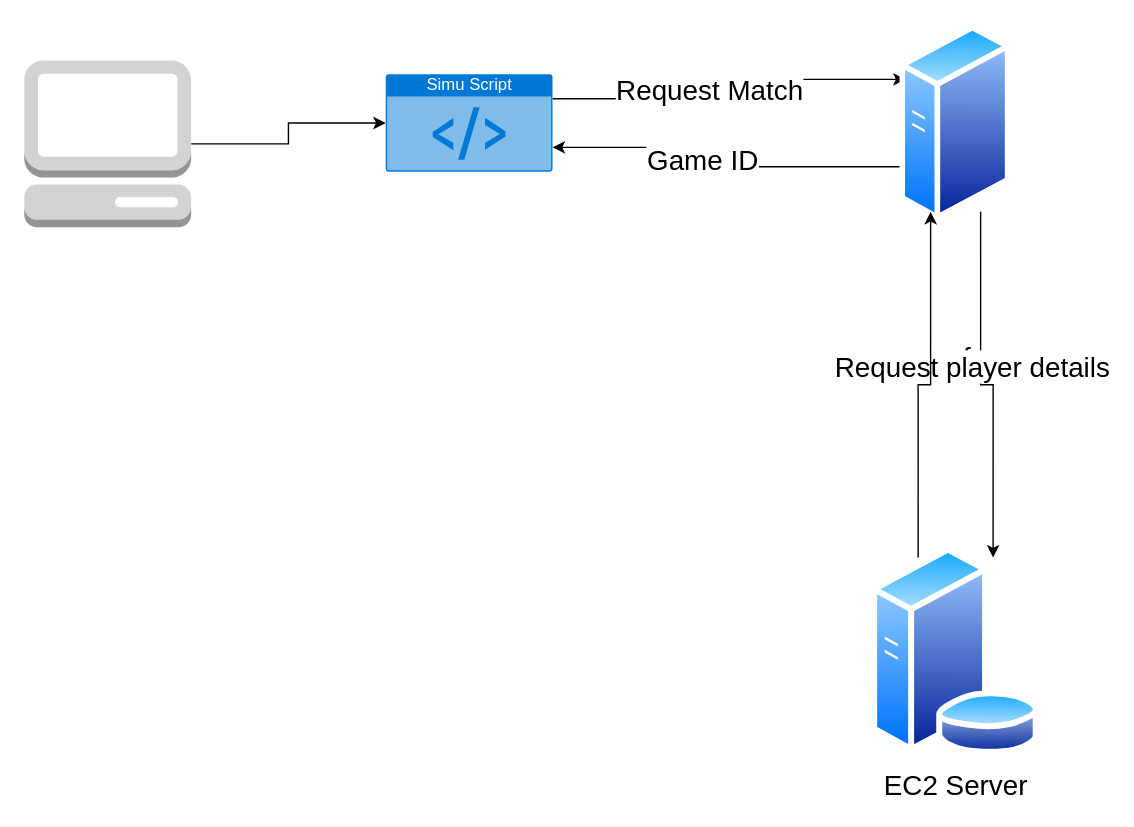
The diagram is 1134 pixels wide and 827 high, and some of its shapes have lost their labels. The centre of each missing label's shape, as x and y in pixels:
Client: point 107,143
Matchmaking Server: point 955,122
